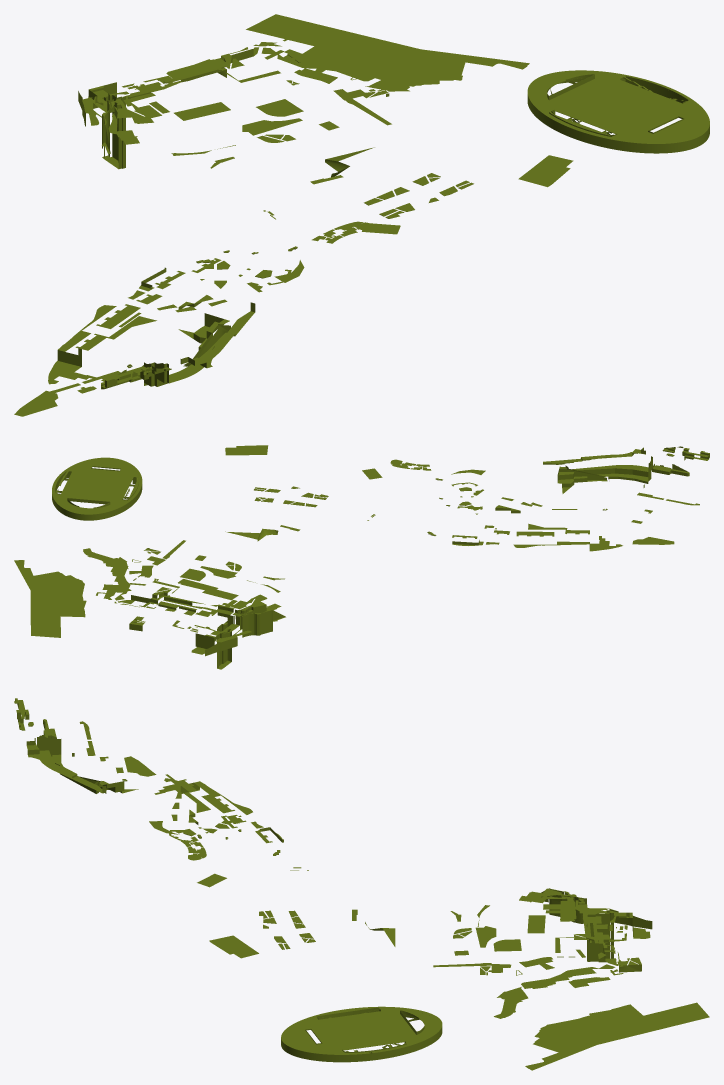
The model's file is Greenland.fbx.
3 views of the same model, one above another, from view 1: azimuth 30°, elevation 25°; view 2: azimuth 150°, elevation 25°; view 3: azimuth 270°, elevation 25° (orthographic). The views are drawn at different scales.
Visible parts, largest first — view 1: Greenland; view 2: Greenland; view 3: Greenland.
Part boxes in pixels (x1,y1,x2,y2): Greenland: [14, 14, 709, 416]; Greenland: [14, 445, 709, 669]; Greenland: [14, 698, 709, 1070].
Bounding box in the file's own units: 876 × 152 × 820.
